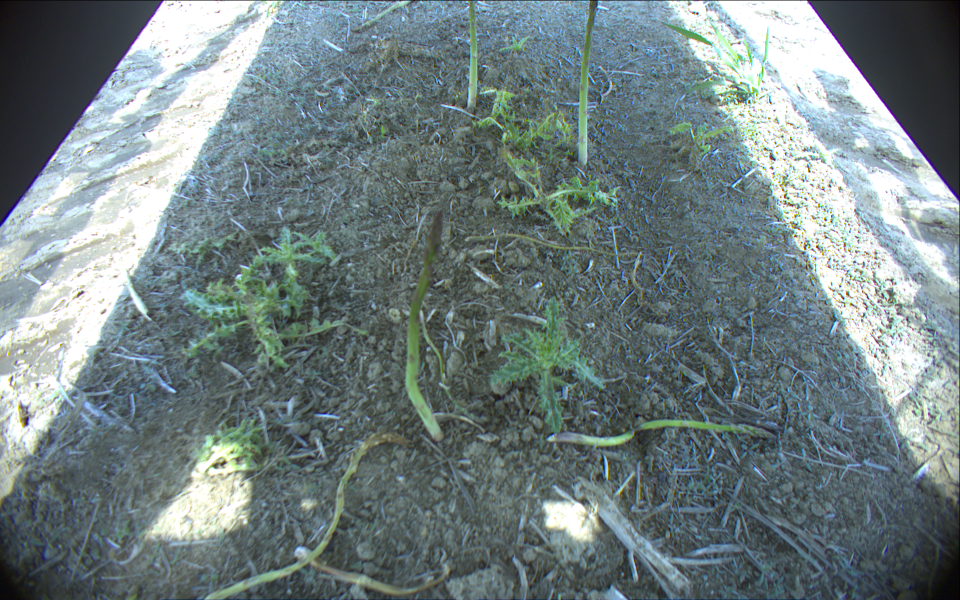aspa: (202, 432, 409, 600), (407, 211, 444, 443), (296, 545, 448, 596), (549, 417, 778, 443), (465, 233, 640, 256), (577, 1, 599, 165), (352, 1, 410, 32), (466, 1, 479, 110)
